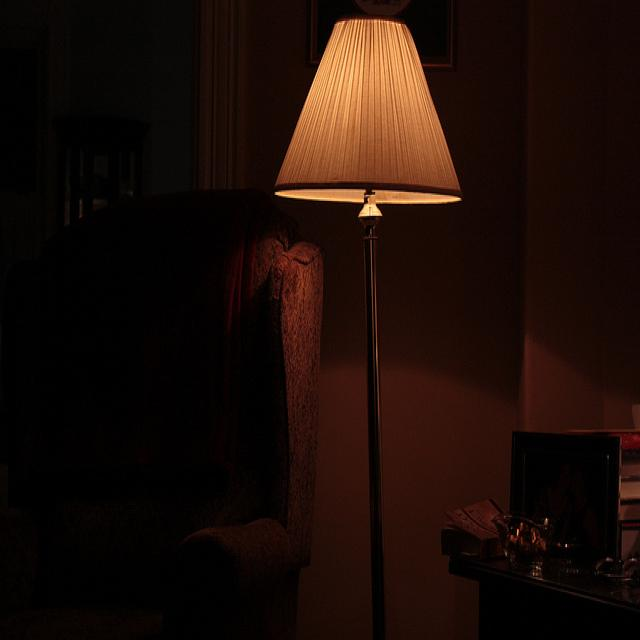Table: (436, 485, 640, 639)
chair: (18, 210, 334, 640)
